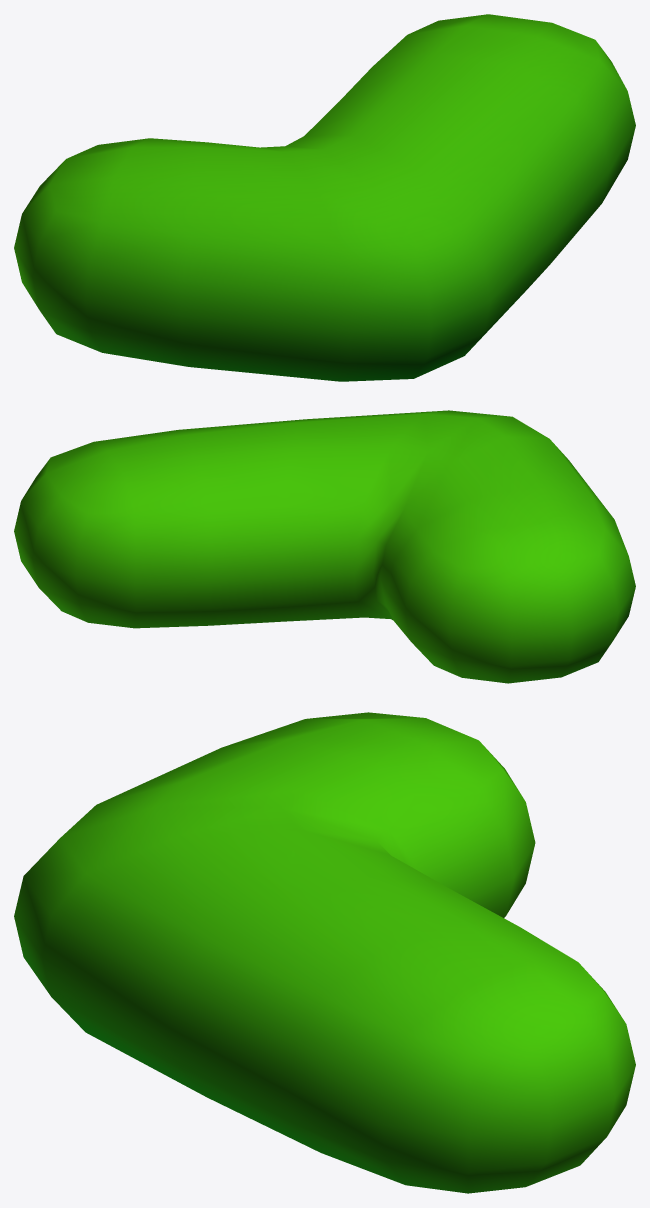
File: TrueSymbol.FBX
3 renders of one model, top to bottom at view 1: azimuth 30°, elevation 25°; view 2: azimuth 150°, elevation 25°; view 3: azimuth 270°, elevation 25°, orthographic. The views are drawn at different scales.
Visible parts, largest first — view 1: TrueSymbol; view 2: TrueSymbol; view 3: TrueSymbol.
Boxes of the visible parts, box(x1,y1,x2,y2) form: TrueSymbol: box(14, 14, 635, 381); TrueSymbol: box(14, 410, 635, 683); TrueSymbol: box(14, 712, 635, 1193).
Bounding box in the file's own units: 33.52 × 9.58 × 24.24.
1 material, 1 textured.
